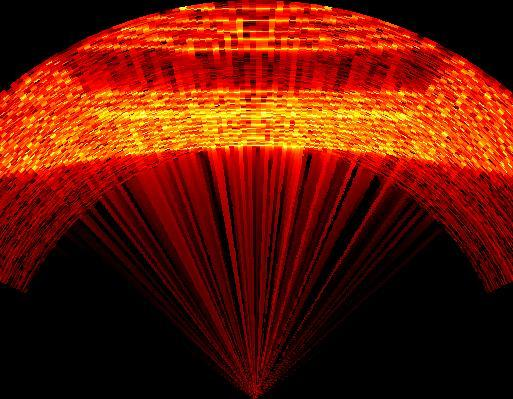pipe: (60, 47, 448, 97)
